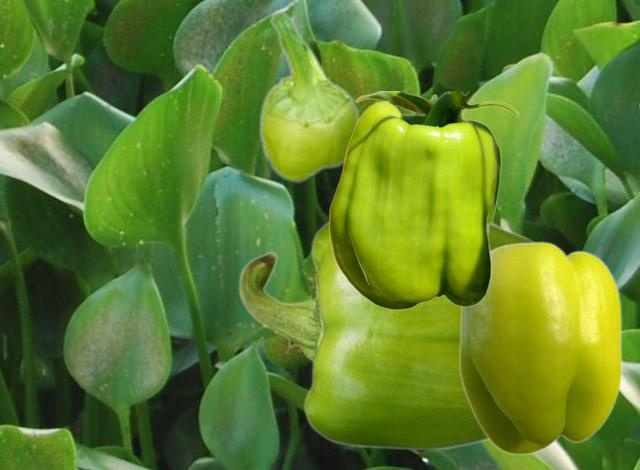bell_pepper: (238, 220, 533, 450), (328, 91, 518, 309), (458, 240, 621, 454), (258, 11, 361, 182)
